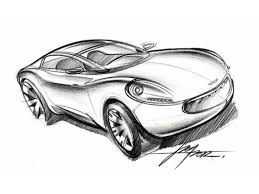car: (3, 36, 250, 167)
